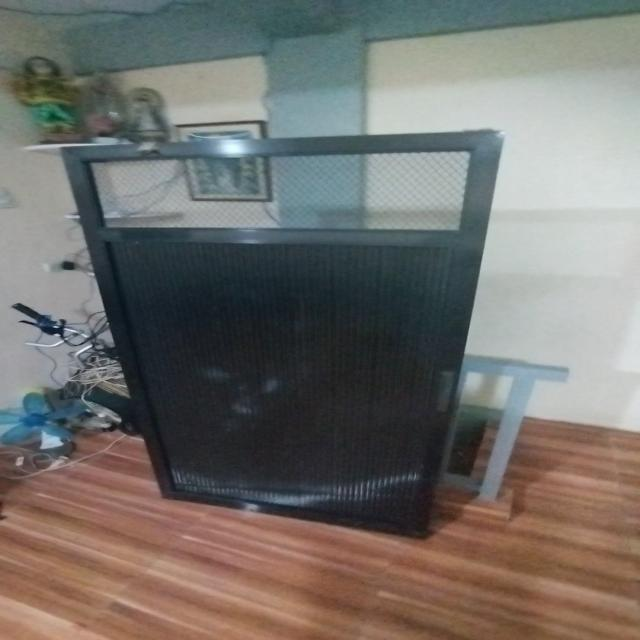door: (65, 117, 515, 537)
